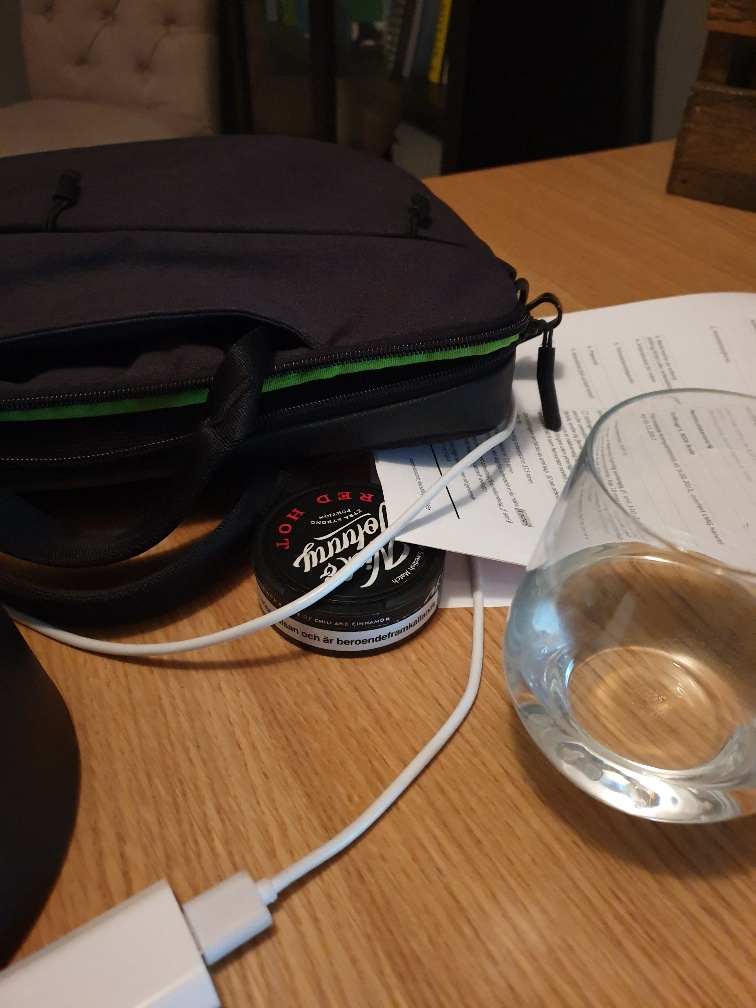snus: (249, 472, 460, 656)
